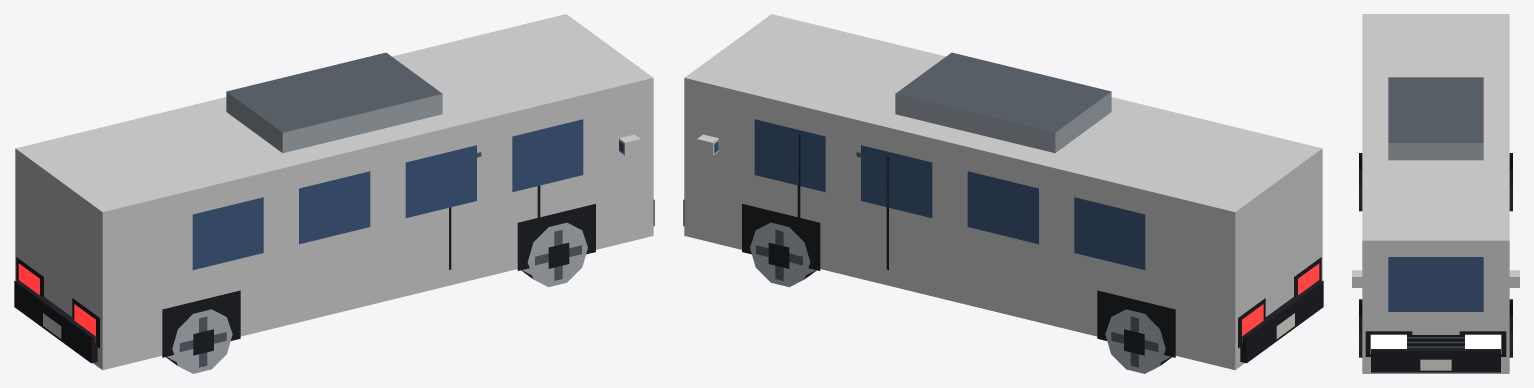
File: car_minibus.glb
3 views of the same model, side by side, from view 1: azimuth 30°, elevation 25°; view 2: azimuth 150°, elevation 25°; view 3: azimuth 270°, elevation 25° (orthographic). The views are drawn at different scales.
Parts seen in each view (by area): view 1: car_minibus; view 2: car_minibus; view 3: car_minibus.
Boxes of the visible parts, bbox=[...] form: car_minibus: bbox=[14, 14, 654, 373]; car_minibus: bbox=[683, 14, 1323, 373]; car_minibus: bbox=[1352, 14, 1519, 373].
Size of the model in its own units: 0.6356 by 0.2175 by 0.194.
